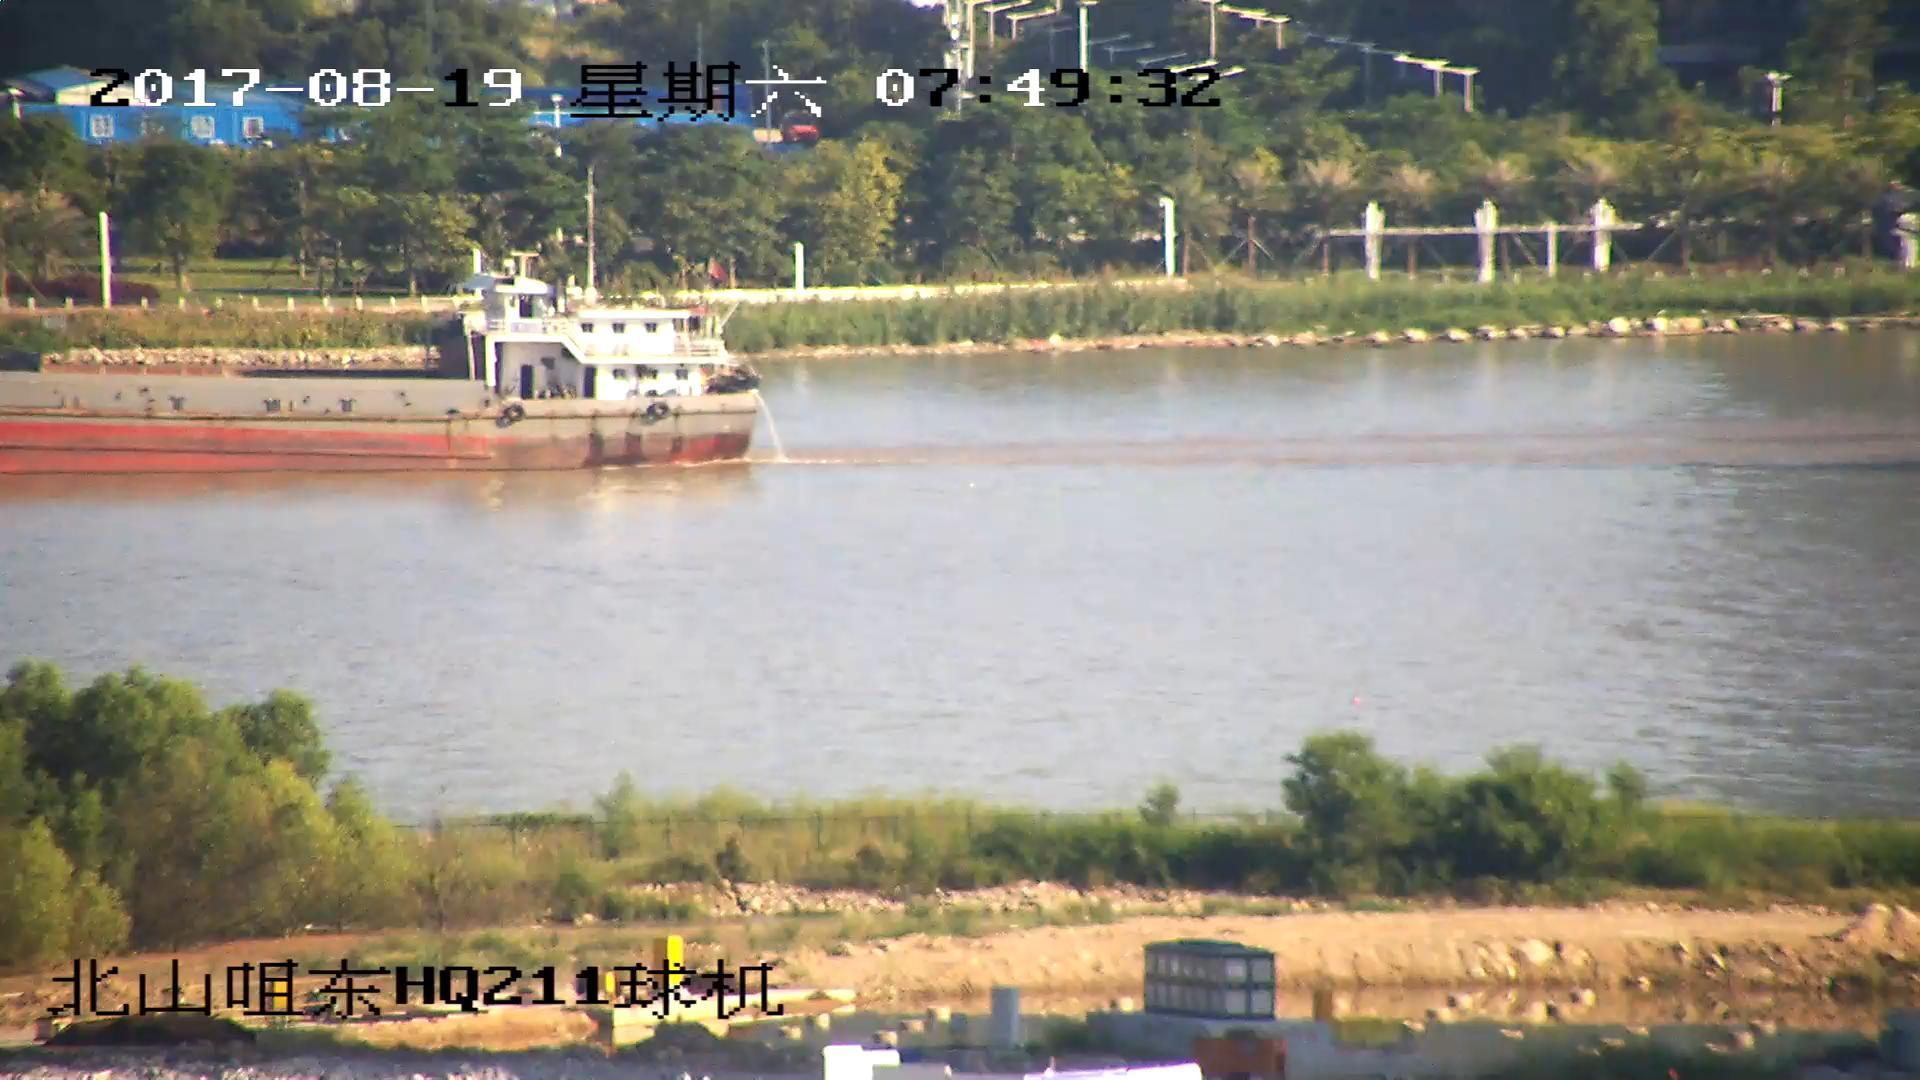Ship: (3, 181, 760, 472)
